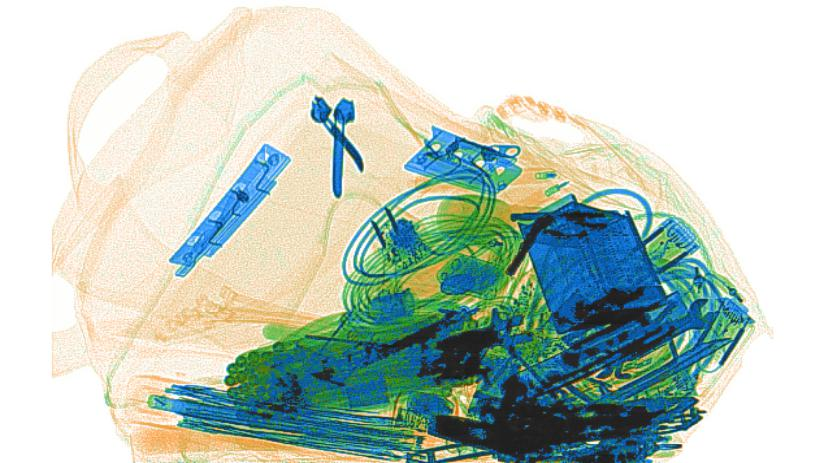battery: (433, 252, 508, 298)
